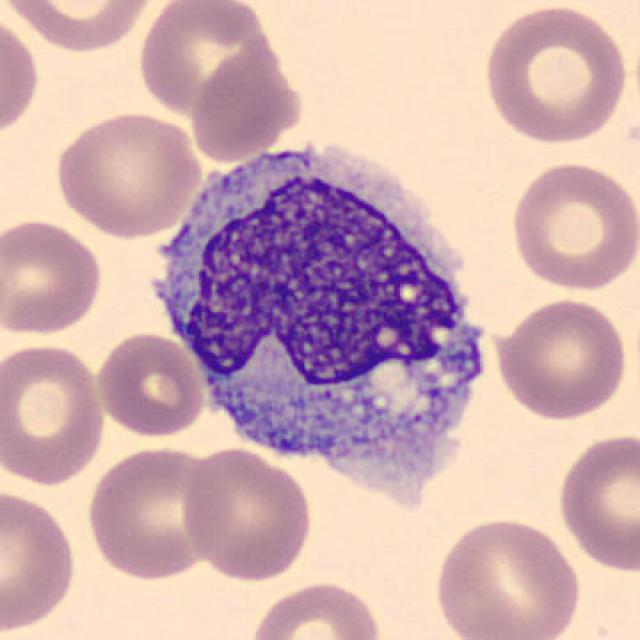Monocyte: (137, 129, 505, 483)
RBC: (478, 0, 631, 146), (52, 108, 205, 240), (82, 442, 224, 582), (429, 513, 583, 640), (178, 444, 316, 584), (505, 157, 638, 294), (489, 295, 631, 423), (135, 0, 276, 118), (0, 340, 108, 488), (191, 47, 312, 161), (0, 215, 107, 339), (91, 330, 208, 440), (553, 428, 638, 575), (0, 485, 80, 633), (245, 578, 384, 640), (2, 0, 162, 53), (0, 9, 43, 143)
